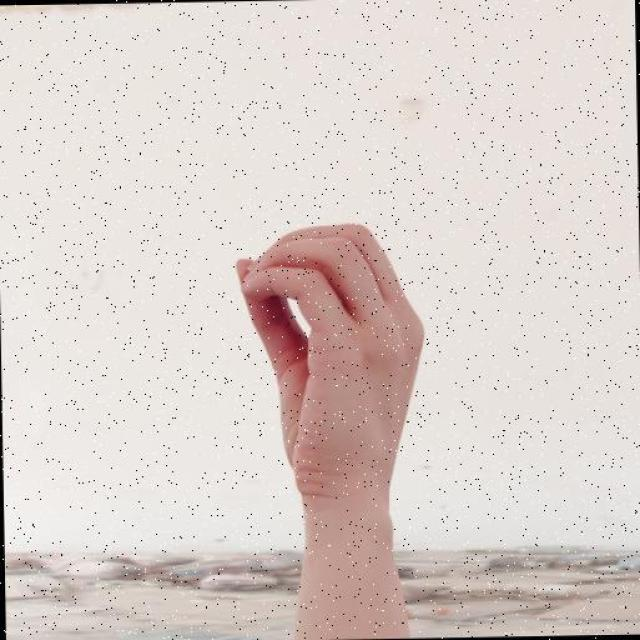O: (231, 218, 430, 502)
